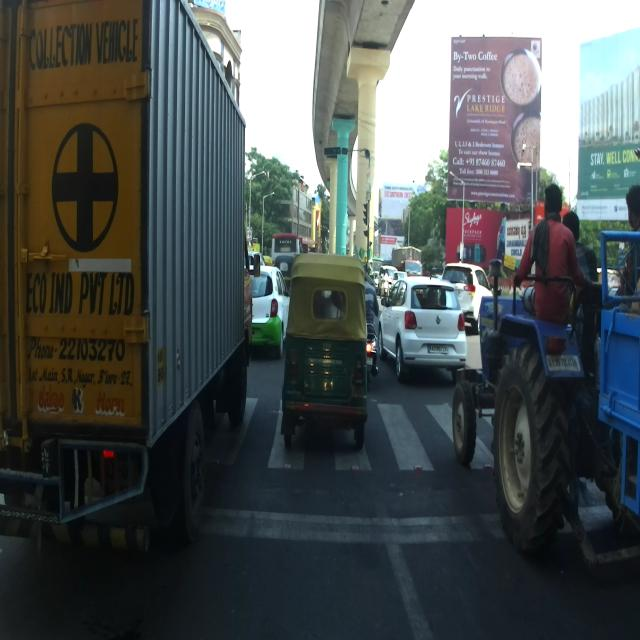auto ahead at: (283, 255, 374, 462)
car ahead at: (383, 281, 463, 373)
truck ahead at: (7, 0, 253, 547), (455, 186, 640, 608)
